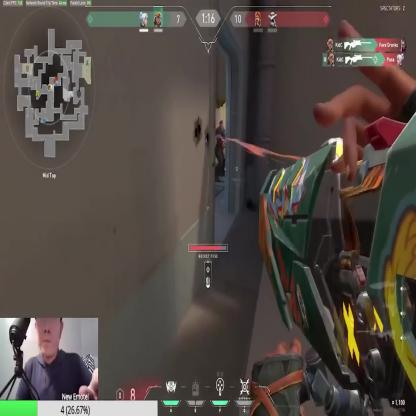enemy: (214, 120, 226, 184)
enemy_head: (219, 120, 223, 130)
